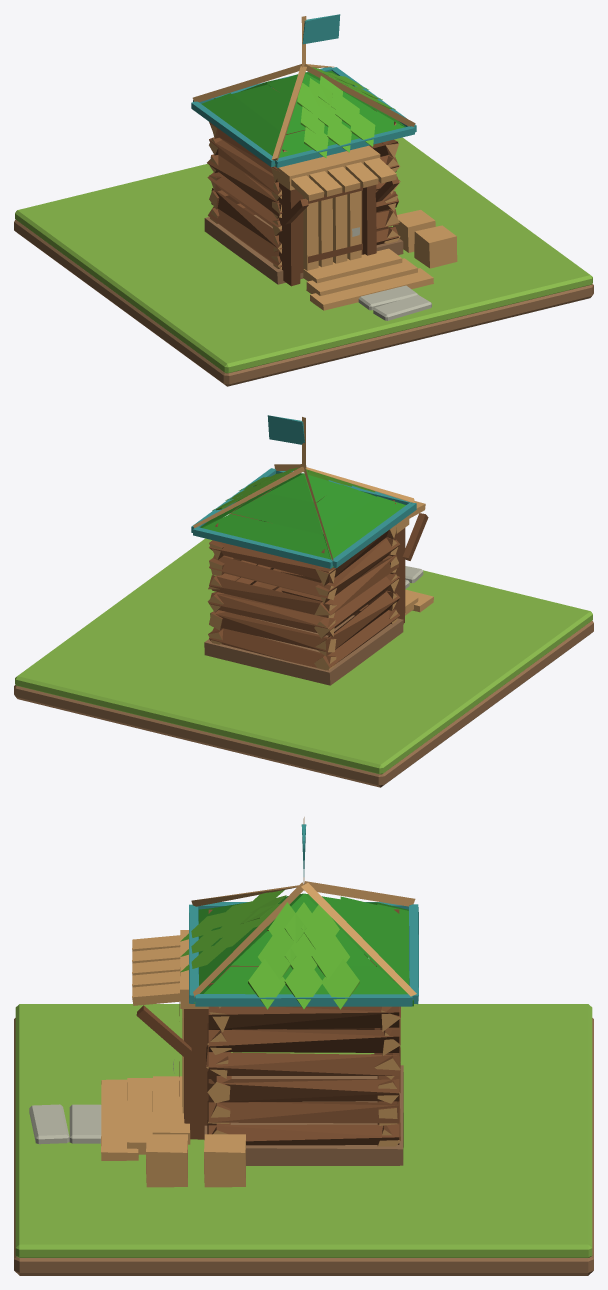
The model's file is town_hall_l01_active_LOD2.glb.
The picture shows the model from 3 angles, top to bottom: view 1: azimuth 30°, elevation 25°; view 2: azimuth 150°, elevation 25°; view 3: azimuth 270°, elevation 25°; orthographic projection. The views are drawn at different scales.
Visible parts, largest first — view 1: town_hall_l01_active_grass_tile.001, town_hall_l01_active_foundation.001, town_hall_l01_active_earth_tile.001, town_hall_l01_active_path_stone.005, town_hall_l01_active_path_stone.004; view 2: town_hall_l01_active_grass_tile.001, town_hall_l01_active_foundation.001, town_hall_l01_active_earth_tile.001; view 3: town_hall_l01_active_grass_tile.001, town_hall_l01_active_foundation.001, town_hall_l01_active_earth_tile.001, town_hall_l01_active_path_stone.005, town_hall_l01_active_path_stone.004.
Part boxes in pixels (x1,y1,x2,y2): town_hall_l01_active_grass_tile.001: (15,137,592,373); town_hall_l01_active_foundation.001: (191,14,457,310); town_hall_l01_active_earth_tile.001: (14,219,593,386); town_hall_l01_active_path_stone.005: (373,295,431,320); town_hall_l01_active_path_stone.004: (358,285,417,310); town_hall_l01_active_grass_tile.001: (15,538,592,774); town_hall_l01_active_foundation.001: (191,415,433,685); town_hall_l01_active_earth_tile.001: (14,620,593,787); town_hall_l01_active_grass_tile.001: (15,1004,592,1257); town_hall_l01_active_foundation.001: (101,817,418,1187); town_hall_l01_active_earth_tile.001: (14,1018,593,1275); town_hall_l01_active_path_stone.005: (29,1104,69,1144); town_hall_l01_active_path_stone.004: (69,1104,101,1143).
Bounding box in the file's own units: 3.6 × 2.32 × 3.6.
